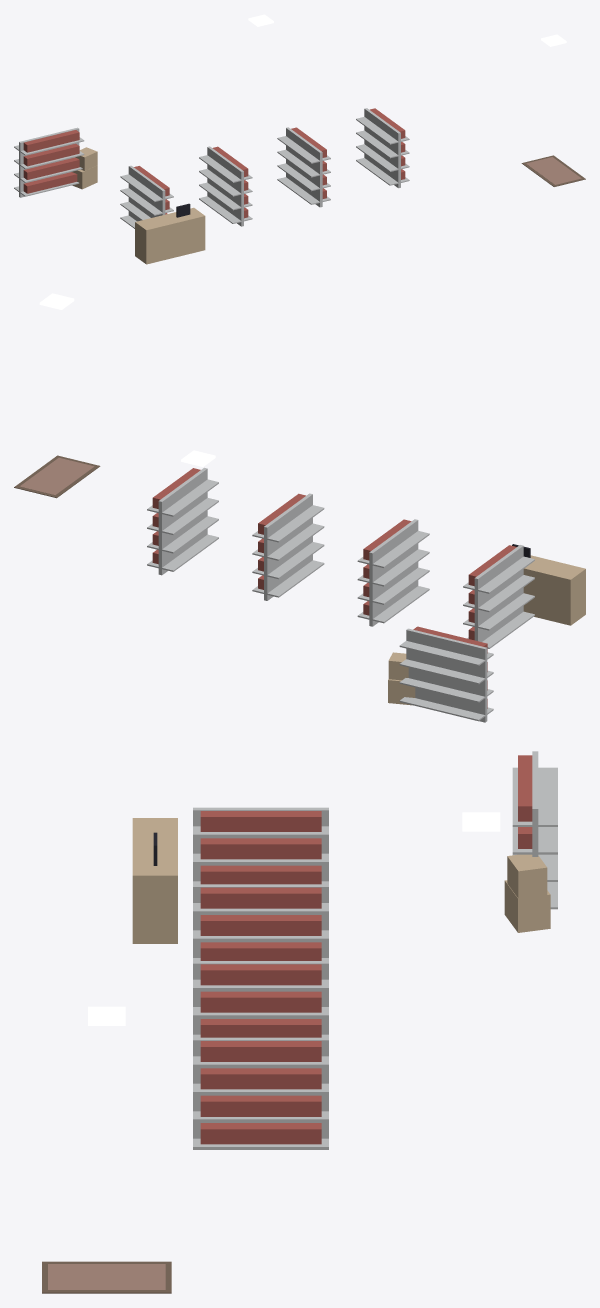
Rendered from fine-s0.glb.
The picture shows the model from 3 angles, top to bottom: view 1: azimuth 30°, elevation 25°; view 2: azimuth 150°, elevation 25°; view 3: azimuth 270°, elevation 25°; orthographic projection. The views are drawn at different scales.
Parts seen in each view (by area): view 1: shelving.000, shop-counter.000, shelf.001, shelf.003, shelf.002, shelf.000, soft-s0, cardboard-box.000; view 2: shelving.000, shelf.001, shelf.003, shelf.002, shelf.000, shop-counter.000, soft-s0, cardboard-box.000; view 3: shelf.003, shelf.000, shelf.001, shelf.002, shop-counter.000, shelving.000, soft-s0, cardboard-box.000, ceiling-lamp.001, ceiling-lamp.000.
Boxes of the visible parts, left/top/right/bottom form: shelving.000: left=14, top=127, right=84, bottom=197; shop-counter.000: left=135, top=203, right=205, bottom=264; shelf.001: left=199, top=146, right=252, bottom=226; shelf.003: left=356, top=108, right=409, bottom=188; shelf.002: left=277, top=127, right=330, bottom=207; shelf.000: left=120, top=165, right=173, bottom=228; soft-s0: left=521, top=155, right=585, bottom=186; cardboard-box.000: left=72, top=147, right=97, bottom=189; shelving.000: left=399, top=626, right=493, bottom=722; shelf.001: left=357, top=519, right=429, bottom=626; shelf.003: left=147, top=467, right=218, bottom=575; shelf.002: left=252, top=493, right=324, bottom=600; shelf.000: left=463, top=545, right=534, bottom=648; shop-counter.000: left=512, top=544, right=585, bottom=625; soft-s0: left=14, top=455, right=100, bottom=498; cardboard-box.000: left=388, top=652, right=415, bottom=705; shelf.003: left=193, top=1037, right=328, bottom=1149; shelf.000: left=193, top=807, right=328, bottom=884; shelf.001: left=193, top=884, right=328, bottom=960; shelf.002: left=193, top=961, right=328, bottom=1037; shop-counter.000: left=132, top=818, right=177, bottom=943; shelving.000: left=512, top=751, right=557, bottom=909; soft-s0: left=42, top=1261, right=171, bottom=1293; cardboard-box.000: left=504, top=854, right=550, bottom=932; ceiling-lamp.001: left=462, top=812, right=500, bottom=831; ceiling-lamp.000: left=88, top=1006, right=125, bottom=1025.
Size of the model in its own units: 13.54 by 3.84 by 6.82.
